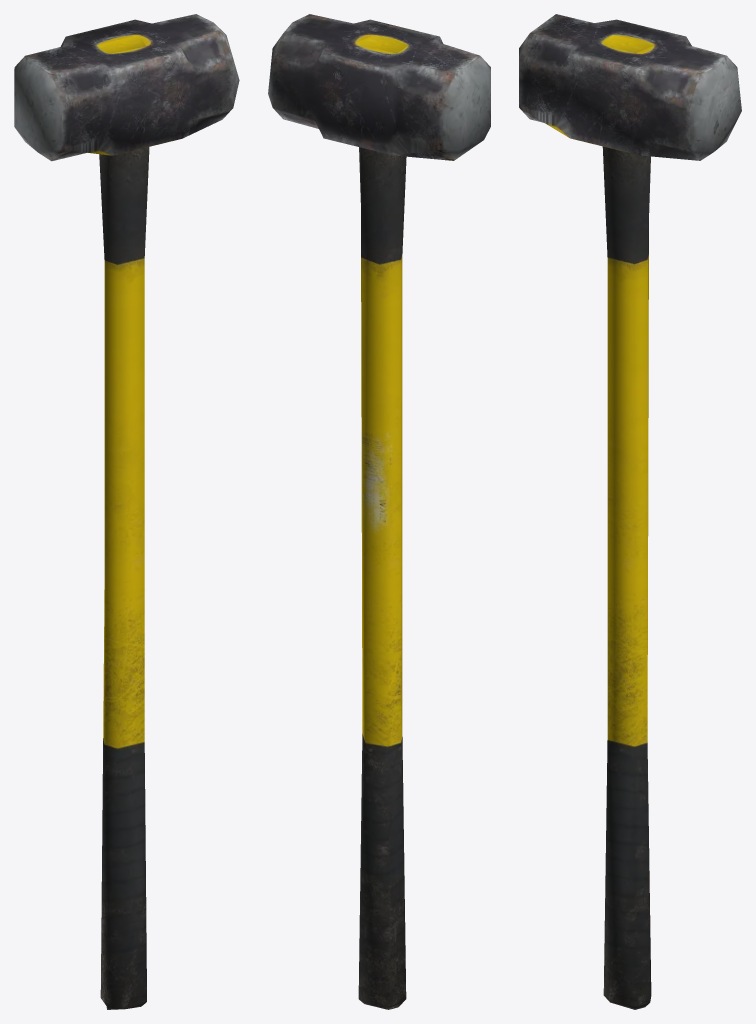
The model's file is sledgehammer_01.glb.
The picture shows the model from 3 angles, left to right: view 1: azimuth 30°, elevation 25°; view 2: azimuth 150°, elevation 25°; view 3: azimuth 330°, elevation 25°; orthographic projection.
Parts seen in each view (by area): view 1: sledgehammer_01; view 2: sledgehammer_01; view 3: sledgehammer_01.
Boxes of the visible parts, <box> form: sledgehammer_01: <box>14,14,239,1009</box>; sledgehammer_01: <box>268,14,490,1009</box>; sledgehammer_01: <box>519,14,741,1009</box>.
Bounding box in the file's own units: 0.2064 × 1 × 0.0905.
1 material, 1 textured.
